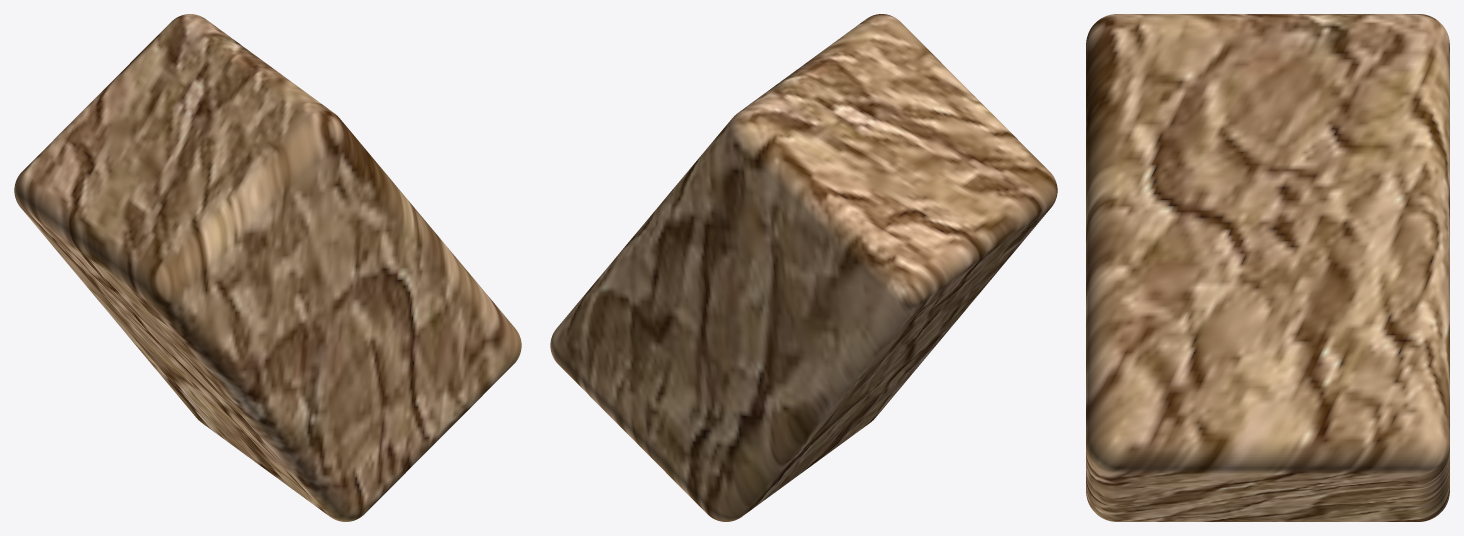
The model's file is Cantina.obj.
3 renders of one model, left to right at view 1: azimuth 30°, elevation 25°; view 2: azimuth 150°, elevation 25°; view 3: azimuth 270°, elevation 25°, orthographic. The views are drawn at different scales.
Visible parts, largest first — view 1: Object.1; view 2: Object.1; view 3: Object.1.
Part boxes in pixels (<box>): Object.1: <box>14,14,521,521</box>; Object.1: <box>550,14,1057,521</box>; Object.1: <box>1086,14,1449,521</box>.
Bounding box in the file's own units: 4834 × 5166 × 3500.
Materials: 1 (1 with a texture image).
